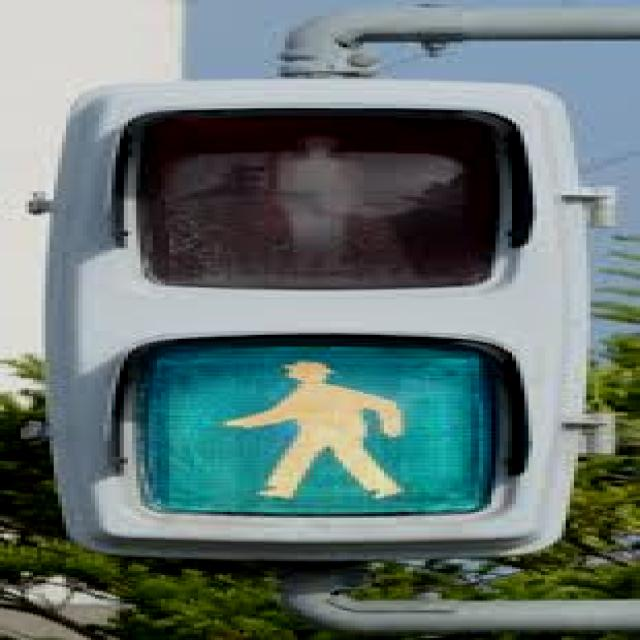trafficlight: (29, 77, 586, 557)
